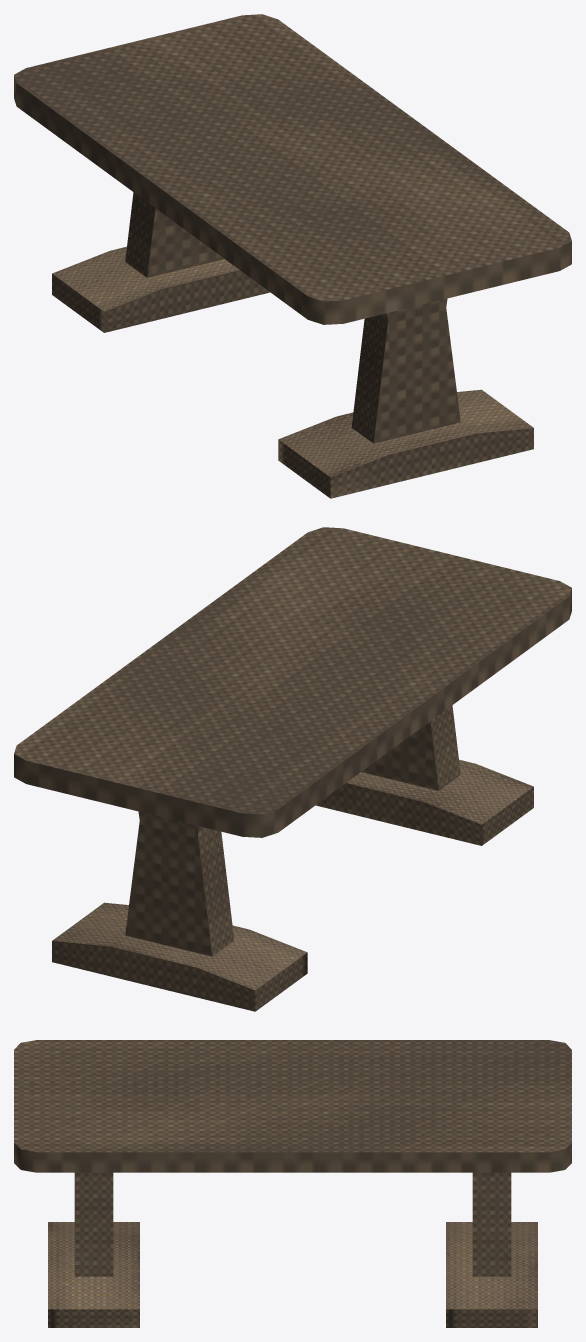
The model's file is table1.fbx.
3 renders of one model, top to bottom at view 1: azimuth 30°, elevation 25°; view 2: azimuth 150°, elevation 25°; view 3: azimuth 270°, elevation 25°, orthographic. The views are drawn at different scales.
Parts seen in each view (by area): view 1: table1; view 2: table1; view 3: table1.
Part boxes in pixels (x1,y1,x2,y2): table1: [14, 14, 571, 498]; table1: [14, 527, 571, 1011]; table1: [14, 1040, 571, 1327].
Size of the model in its own units: 4.16 by 3.26 by 8.75.
